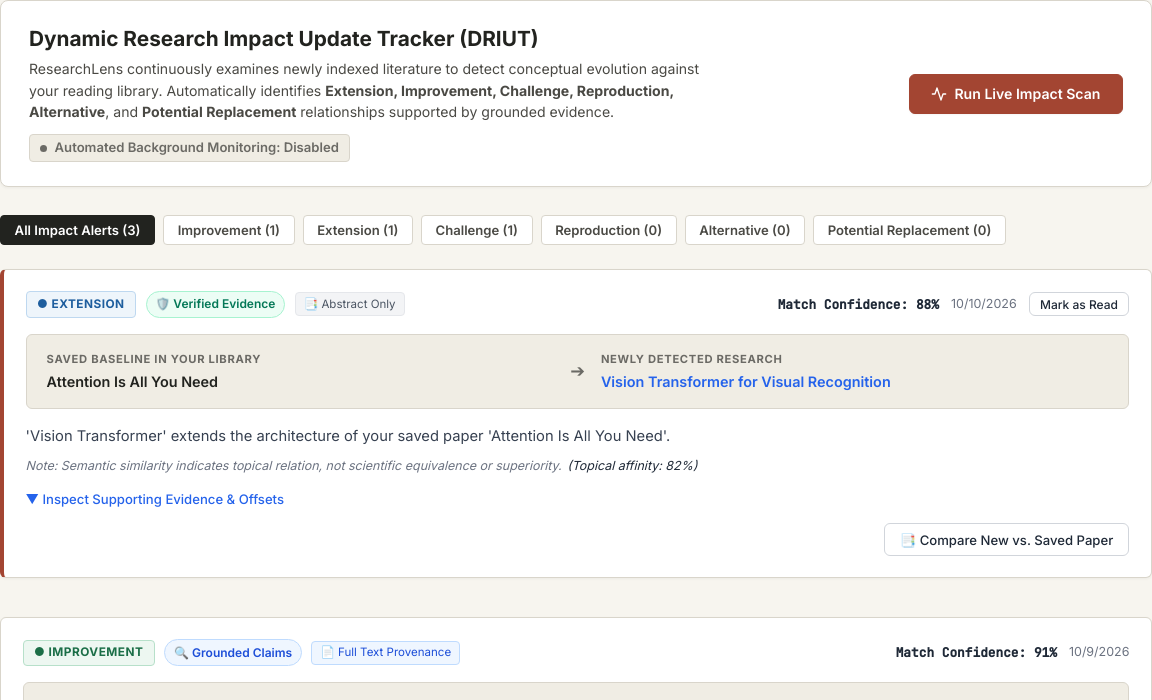
DriutAlertsView Component › displays empty state when filter matches no alerts
This screenshot has width=1152, height=700.
Click the button "Reproduction (0)" at (609, 230), box [540, 216, 677, 245]
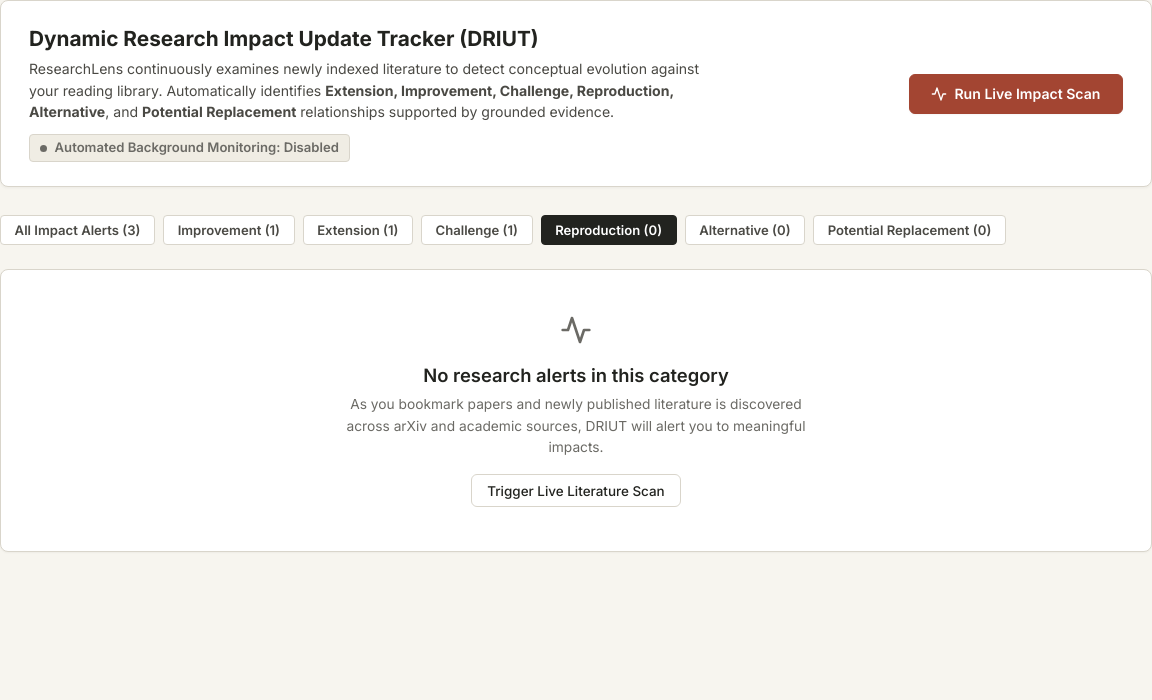
Expected: the heading "No research alerts in this category" is shown, [423, 364, 729, 386]
